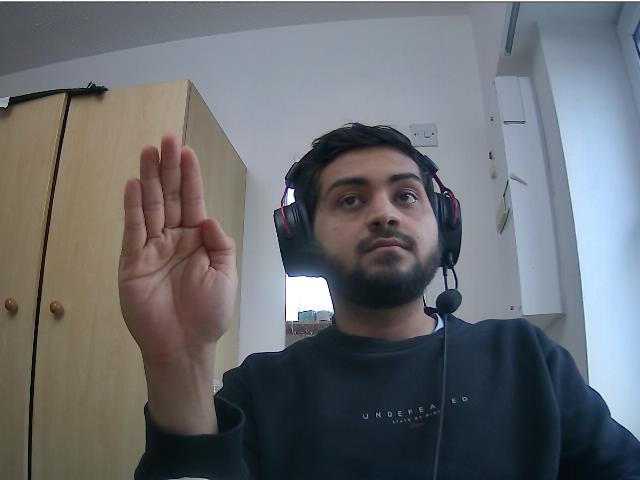up: (116, 132, 238, 352)
